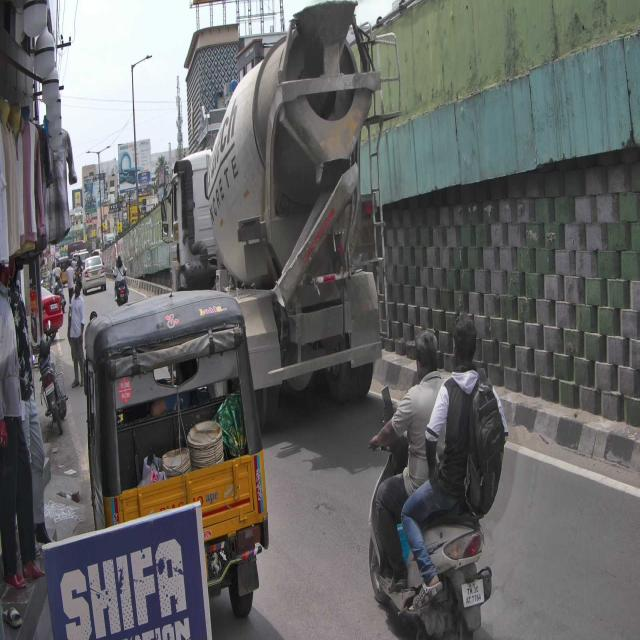double_rider: (366, 313, 508, 640)
